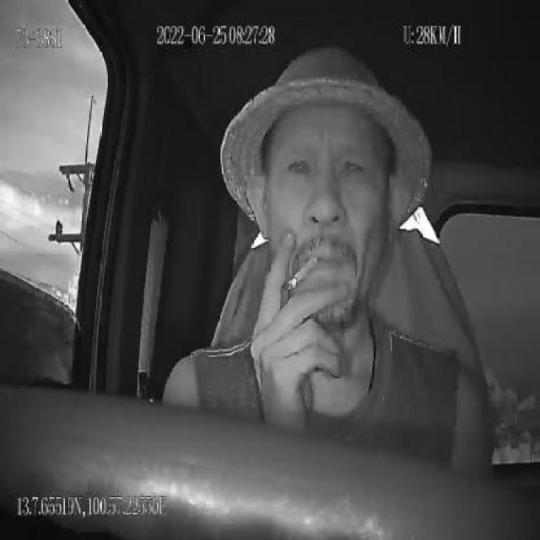smoking: (288, 250, 320, 295)
